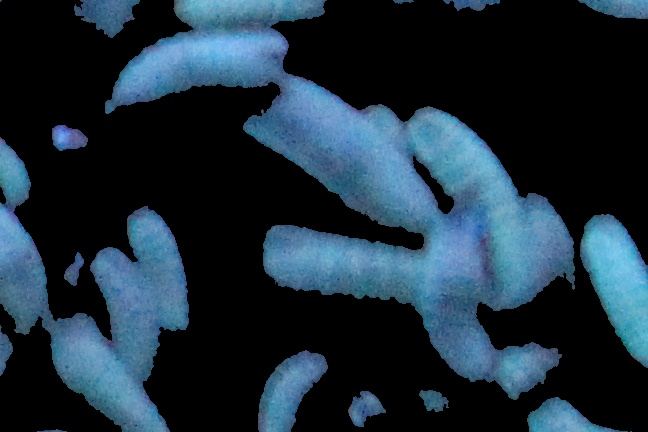larvae: (229, 64, 438, 233), (401, 96, 540, 314), (100, 18, 294, 116), (255, 220, 423, 312), (39, 314, 164, 432), (414, 225, 496, 379), (576, 206, 648, 368), (83, 246, 160, 370), (120, 206, 187, 334), (259, 347, 326, 432), (1, 112, 49, 213)
